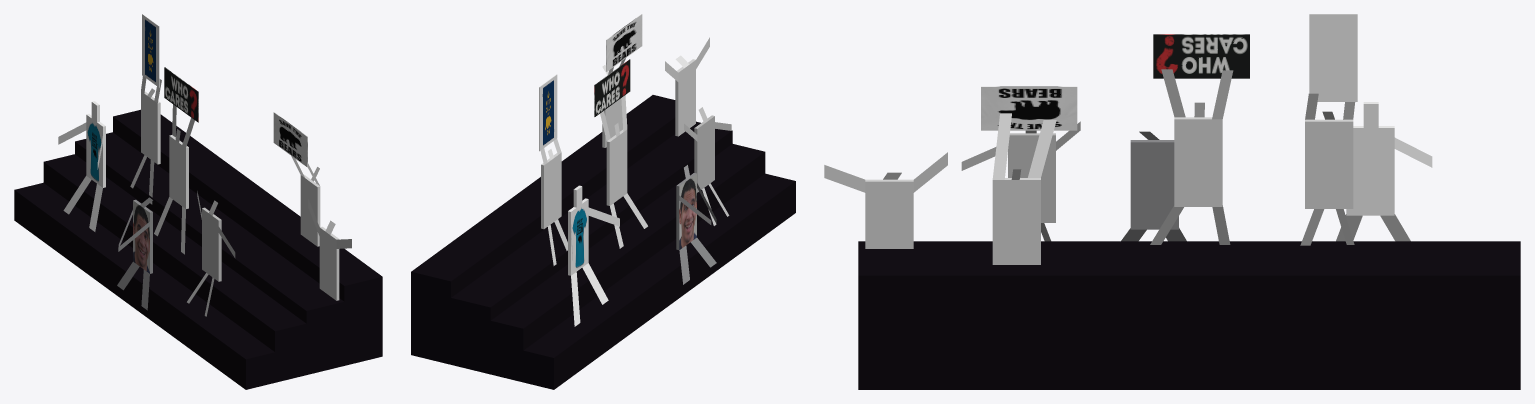
The model's file is skatitaji2.fbx.
3 views of the same model, side by side, from view 1: azimuth 30°, elevation 25°; view 2: azimuth 150°, elevation 25°; view 3: azimuth 270°, elevation 25° (orthographic). The views are drawn at different scales.
Visible parts, largest first — view 1: Cube, Cube.001, Cube.008, Cube.009, Cube.003, Cube.005, Cube.004, Cube.002, Cube.012, Cube.010, Cube.011; view 2: Cube, Cube.001, Cube.008, Cube.009, Cube.003, Cube.005, Cube.004, Cube.012, Cube.010, Cube.011, Cube.002; view 3: Cube, Cube.009, Cube.002, Cube.003, Cube.001, Cube.004, Cube.008, Cube.012, Cube.010, Cube.011, Cube.005.
Boxes of the visible parts, x1,y1,x2,y2 form: Cube: [14, 109, 382, 389]; Cube.001: [58, 101, 105, 231]; Cube.008: [117, 197, 152, 310]; Cube.009: [154, 104, 194, 254]; Cube.003: [130, 76, 161, 204]; Cube.005: [187, 191, 235, 316]; Cube.004: [308, 199, 351, 300]; Cube.002: [291, 156, 320, 246]; Cube.012: [142, 14, 159, 87]; Cube.010: [164, 67, 198, 122]; Cube.011: [273, 112, 307, 167]; Cube: [411, 95, 795, 389]; Cube.001: [568, 185, 619, 326]; Cube.008: [676, 165, 716, 284]; Cube.009: [600, 95, 647, 248]; Cube.003: [540, 139, 567, 265]; Cube.005: [684, 107, 731, 225]; Cube.004: [665, 37, 709, 136]; Cube.012: [539, 74, 557, 151]; Cube.010: [594, 59, 630, 116]; Cube.011: [606, 14, 642, 71]; Cube.002: [602, 58, 625, 147]; Cube: [858, 241, 1520, 389]; Cube.009: [1150, 69, 1233, 244]; Cube.002: [992, 113, 1056, 264]; Cube.003: [1300, 93, 1355, 245]; Cube.001: [1336, 102, 1432, 241]; Cube.004: [824, 152, 947, 248]; Cube.008: [1121, 131, 1186, 241]; Cube.012: [1309, 14, 1357, 101]; Cube.010: [1153, 34, 1249, 78]; Cube.011: [981, 86, 1077, 130]; Cube.005: [961, 121, 1080, 241].
Bounding box in the file's own units: 556 × 754 × 1442.
